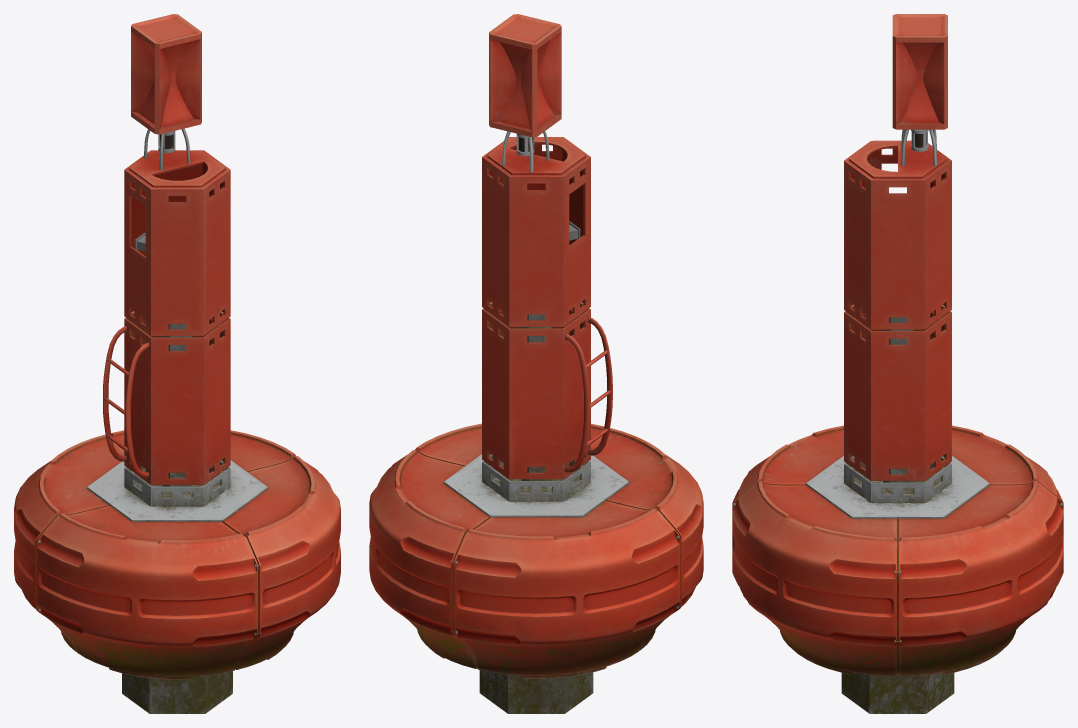
Rendered from lateral_sea_marker.glb.
3 views of the same model, side by side, from view 1: azimuth 30°, elevation 25°; view 2: azimuth 150°, elevation 25°; view 3: azimuth 270°, elevation 25° (orthographic). The views are drawn at different scales.
Visible parts, largest first — view 1: lateral_sea_marker; view 2: lateral_sea_marker; view 3: lateral_sea_marker.
Boxes of the visible parts, <box> form: lateral_sea_marker: <box>14,14,340,713</box>; lateral_sea_marker: <box>369,14,703,713</box>; lateral_sea_marker: <box>732,14,1063,713</box>.
Size of the model in its own units: 3 by 6.84 by 3.
Materials: 1 (1 with a texture image).
